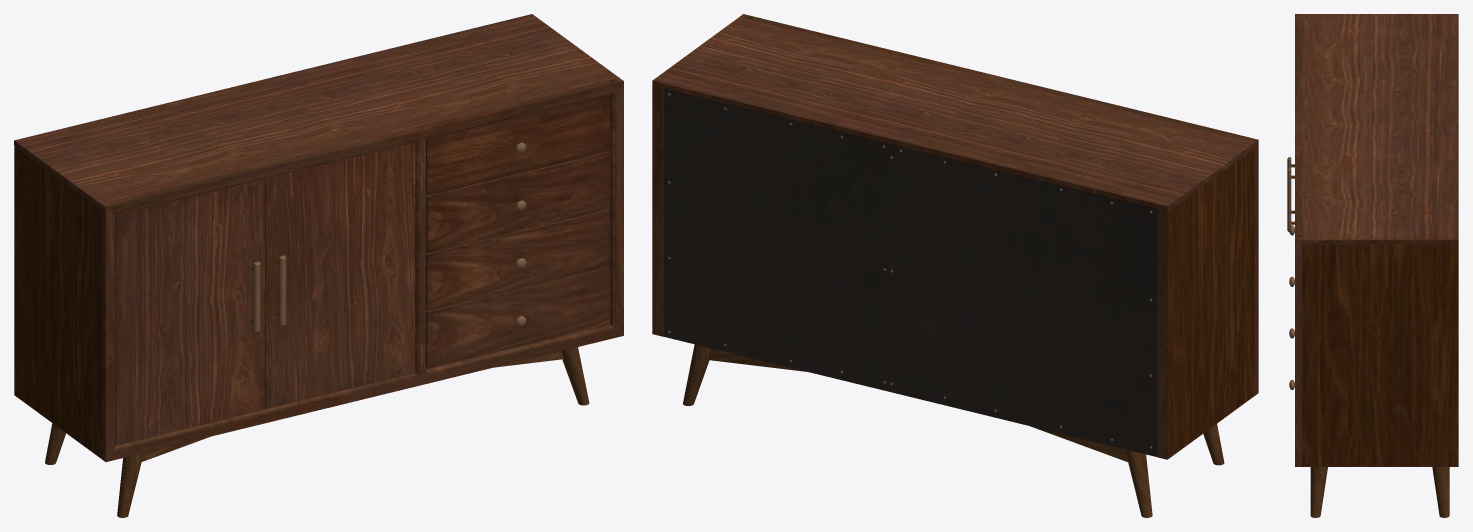
The model's file is abo-B07B79WSKT.glb.
The picture shows the model from 3 angles, left to right: view 1: azimuth 30°, elevation 25°; view 2: azimuth 150°, elevation 25°; view 3: azimuth 270°, elevation 25°; orthographic projection. The views are drawn at different scales.
Bounding box in the file's own units: 1.57 × 0.94 × 0.505.
Materials: 1 (1 with a texture image).
